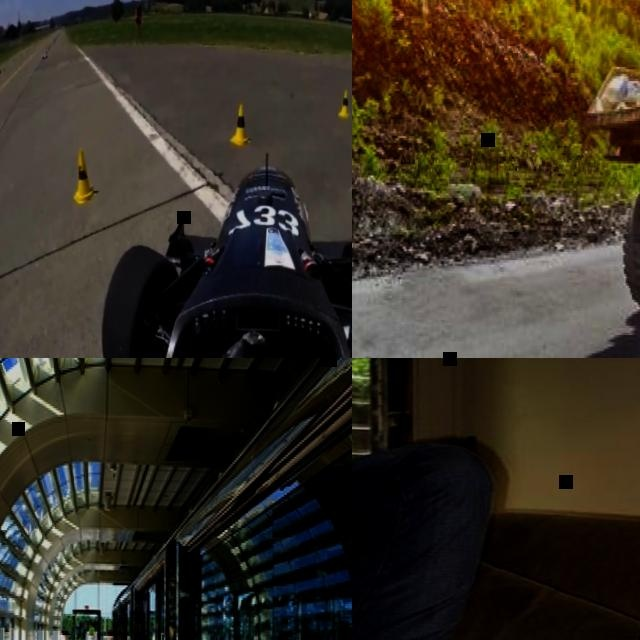NO-Safety Vest: (136, 8, 141, 23)
Person: (352, 431, 640, 640), (133, 2, 142, 44)
Safety Cone: (71, 145, 96, 207), (227, 101, 250, 148), (337, 89, 349, 121)
vehicle: (93, 149, 352, 358)
